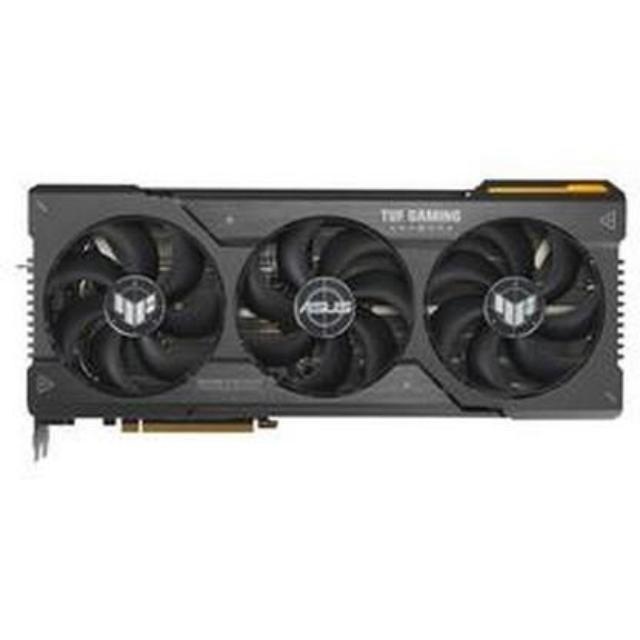GPU: (15, 176, 640, 439)
